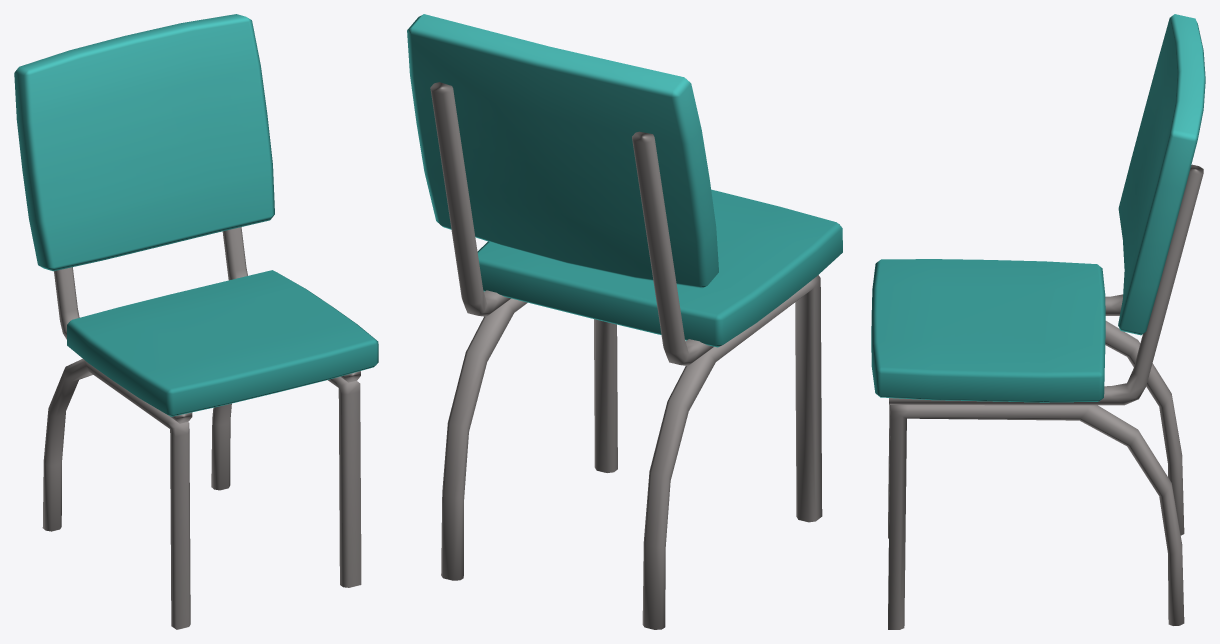
Rendered from Chair.fbx.
The picture shows the model from 3 angles, left to right: view 1: azimuth 30°, elevation 25°; view 2: azimuth 150°, elevation 25°; view 3: azimuth 270°, elevation 25°; orthographic projection. The views are drawn at different scales.
Visible parts, largest first — view 1: Chair; view 2: Chair; view 3: Chair.
Part boxes in pixels (x1,y1,x2,y2): Chair: (14, 14, 378, 629); Chair: (407, 14, 842, 629); Chair: (871, 14, 1205, 629).
Bounding box in the file's own units: 0.5421 × 1.03 × 0.6123.
